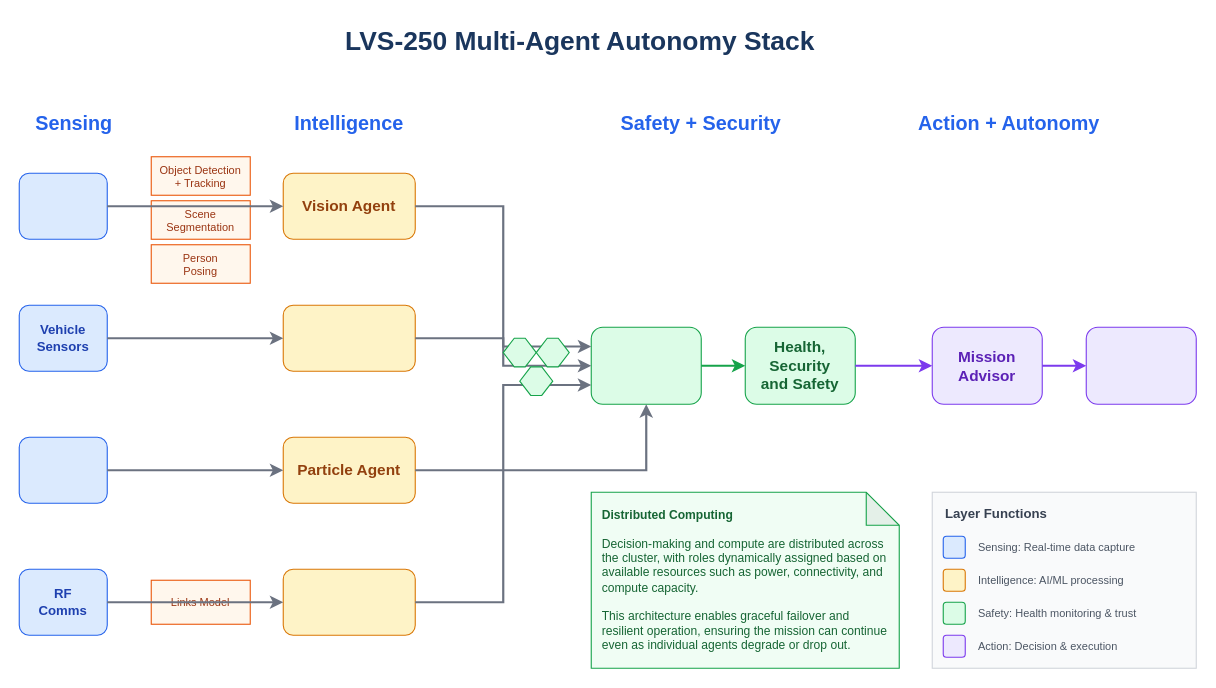
Image size: 1216x688. Some labels were removed from this diagram. The centre of each missing label's shape, as x and y in pixels:
"Fusion Supervisor" belongs at pixel 645 365.
"IR/RGB Camera" belongs at pixel 62 205.
"Links Agent" belongs at pixel 348 601.
"Particle Sensors" belongs at pixel 62 469.
"Telemetry Agent" belongs at pixel 348 337.
"Vehicle Commands" belongs at pixel 1140 365.
